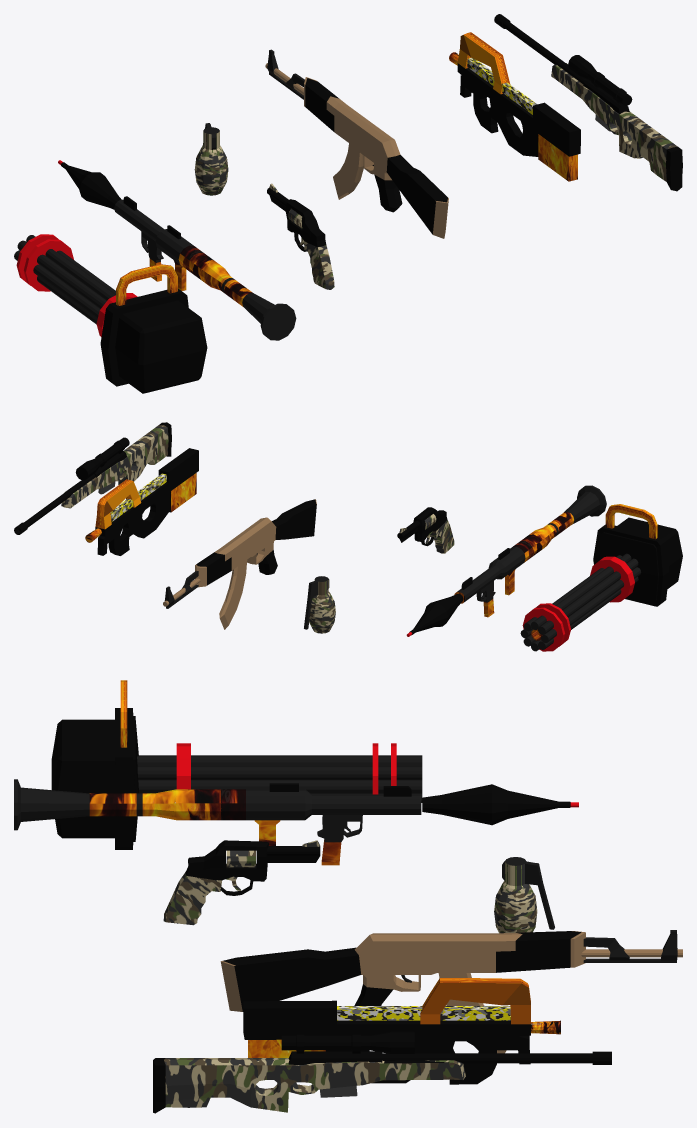
3 views of the same model, one above another, from view 1: azimuth 30°, elevation 25°; view 2: azimuth 150°, elevation 25°; view 3: azimuth 270°, elevation 25° (orthographic). The views are drawn at different scales.
Visible parts, largest first — view 1: Machine, Rifle, SubMachine, Sniper, Rocket_launcher, Pistol, g_1, Rocket; view 2: Machine, SubMachine, Rifle, Sniper, Rocket_launcher, Pistol, g_1, Rocket, g_2; view 3: Machine, Rifle, Sniper, SubMachine, Rocket_launcher, Pistol, Rocket, g_1, g_2.
Part boxes in pixels (bbox=[...]): Machine: bbox=[14, 234, 207, 393]; Rifle: bbox=[265, 49, 448, 238]; SubMachine: bbox=[449, 32, 580, 181]; Sniper: bbox=[494, 14, 682, 191]; Rocket_launcher: bbox=[114, 196, 296, 340]; Pistol: bbox=[267, 183, 334, 289]; g_1: bbox=[194, 131, 228, 195]; Rocket: bbox=[61, 162, 121, 209]; Machine: bbox=[520, 504, 682, 651]; SubMachine: bbox=[85, 448, 198, 555]; Rifle: bbox=[163, 499, 316, 629]; Sniper: bbox=[14, 422, 171, 534]; Rocket_launcher: bbox=[454, 485, 606, 617]; Pistol: bbox=[397, 507, 454, 553]; g_1: bbox=[309, 579, 335, 633]; Rocket: bbox=[409, 594, 463, 635]; g_2: bbox=[304, 576, 329, 629]; Machine: bbox=[51, 680, 422, 849]; Rifle: bbox=[220, 930, 682, 1053]; Sniper: bbox=[153, 1031, 611, 1113]; SubMachine: bbox=[243, 978, 560, 1084]; Rocket_launcher: bbox=[14, 779, 421, 865]; Pistol: bbox=[163, 840, 320, 925]; Rocket: bbox=[422, 784, 570, 825]; g_1: bbox=[494, 862, 537, 933]; g_2: bbox=[502, 857, 554, 929].
Bounding box in the file's own units: 147 × 30.37 × 112.
Materials: 12 (3 with a texture image).
